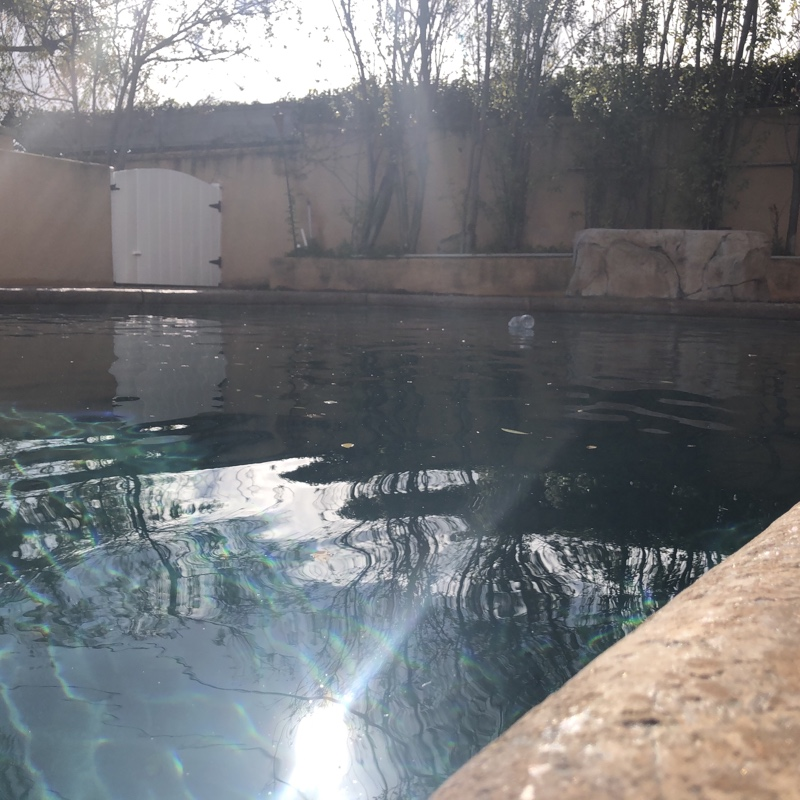Plastic Bottle: (507, 311, 534, 333)
